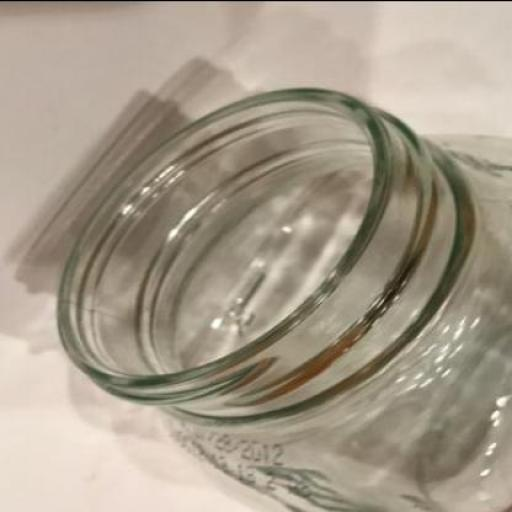glass: (59, 87, 511, 510)
